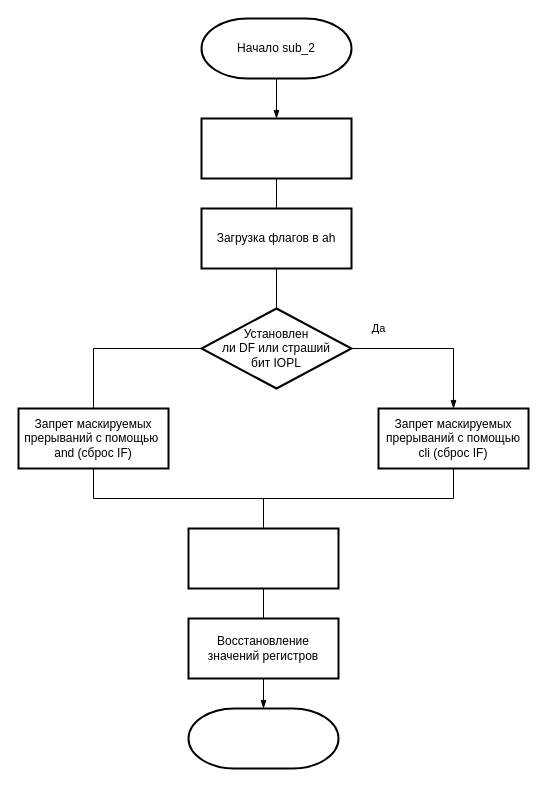
Image size: 546x786. Some labels were removed from this diagram. Each missing label, with the box of its shape:
Выгрузка ah во флаги: (187, 527, 339, 589)
Конец sub_2: (187, 707, 339, 769)
Сохранение значений регистров: (200, 117, 352, 179)
